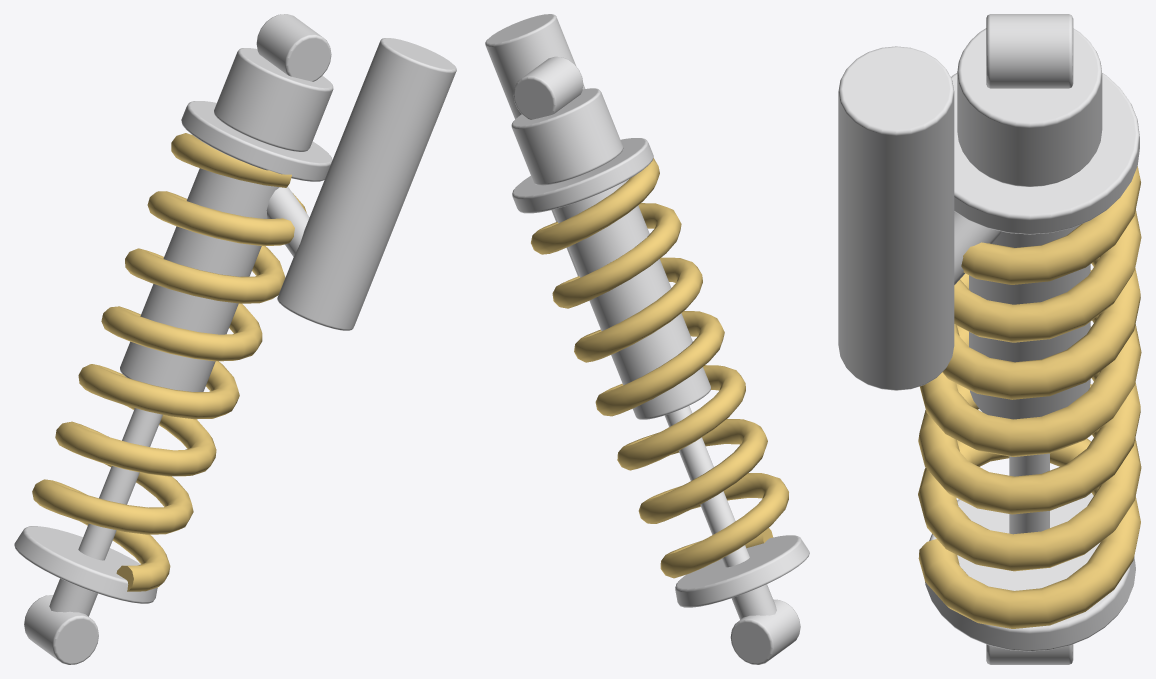
File: bike_electric__rear_shock.glb
3 views of the same model, side by side, from view 1: azimuth 30°, elevation 25°; view 2: azimuth 150°, elevation 25°; view 3: azimuth 270°, elevation 25° (orthographic). The views are drawn at different scales.
Visible parts, largest first — view 1: chassis__rear_shock__body, chassis__rear_shock__spring, chassis__rear_shock__shaft; view 2: chassis__rear_shock__body, chassis__rear_shock__spring, chassis__rear_shock__shaft; view 3: chassis__rear_shock__body, chassis__rear_shock__spring, chassis__rear_shock__shaft.
Part boxes in pixels (x1,y1,x2,y2): chassis__rear_shock__body: [14, 14, 456, 664]; chassis__rear_shock__spring: [32, 133, 306, 591]; chassis__rear_shock__shaft: [78, 408, 162, 560]; chassis__rear_shock__body: [485, 14, 809, 664]; chassis__rear_shock__spring: [531, 158, 788, 578]; chassis__rear_shock__shaft: [664, 406, 749, 567]; chassis__rear_shock__body: [838, 14, 1139, 664]; chassis__rear_shock__spring: [918, 166, 1141, 628]; chassis__rear_shock__shaft: [1009, 453, 1049, 534].
Size of the model in its own units: 21.13 by 30.68 by 10.46.
